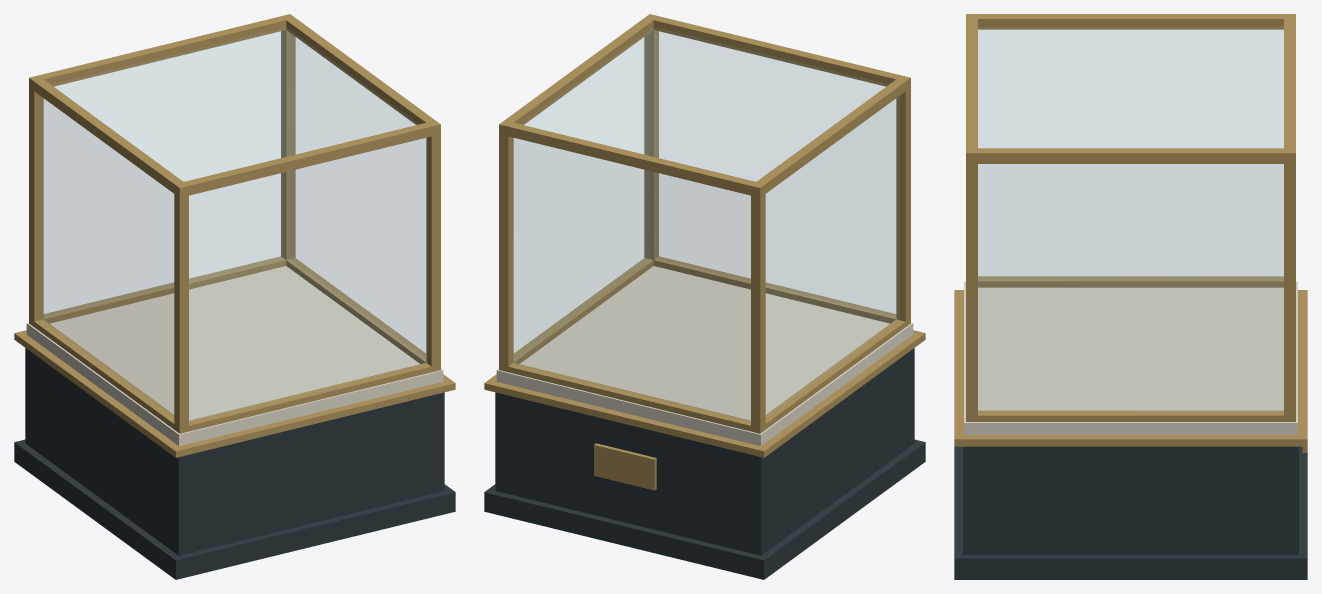
The model's file is VIC_E01_CASE_SMALL_Roblox.fbx.
The picture shows the model from 3 angles, left to right: view 1: azimuth 30°, elevation 25°; view 2: azimuth 150°, elevation 25°; view 3: azimuth 270°, elevation 25°; orthographic projection. The views are drawn at different scales.
Visible parts, largest first — view 1: VIC_E01_CASE_SMALL__Glass, VIC_E01_CASE_SMALL__Charcoal, VIC_E01_CASE_SMALL__Brass, VIC_E01_CASE_SMALL__Ivory; view 2: VIC_E01_CASE_SMALL__Glass, VIC_E01_CASE_SMALL__Charcoal, VIC_E01_CASE_SMALL__Brass, VIC_E01_CASE_SMALL__Ivory; view 3: VIC_E01_CASE_SMALL__Glass, VIC_E01_CASE_SMALL__Charcoal, VIC_E01_CASE_SMALL__Ivory, VIC_E01_CASE_SMALL__Brass.
Boxes of the visible parts, <box> form: VIC_E01_CASE_SMALL__Glass: <box>40,29,426,421</box>; VIC_E01_CASE_SMALL__Charcoal: <box>14,348,455,579</box>; VIC_E01_CASE_SMALL__Brass: <box>14,14,455,457</box>; VIC_E01_CASE_SMALL__Ivory: <box>26,266,443,446</box>; VIC_E01_CASE_SMALL__Glass: <box>512,29,899,420</box>; VIC_E01_CASE_SMALL__Charcoal: <box>484,348,925,579</box>; VIC_E01_CASE_SMALL__Brass: <box>484,14,925,490</box>; VIC_E01_CASE_SMALL__Ivory: <box>496,266,913,446</box>; VIC_E01_CASE_SMALL__Glass: <box>978,29,1283,411</box>; VIC_E01_CASE_SMALL__Charcoal: <box>954,446,1307,579</box>; VIC_E01_CASE_SMALL__Ivory: <box>964,281,1297,435</box>; VIC_E01_CASE_SMALL__Brass: <box>954,14,1307,452</box>.
Size of the model in its own units: 3.6 by 4.74 by 3.6.
